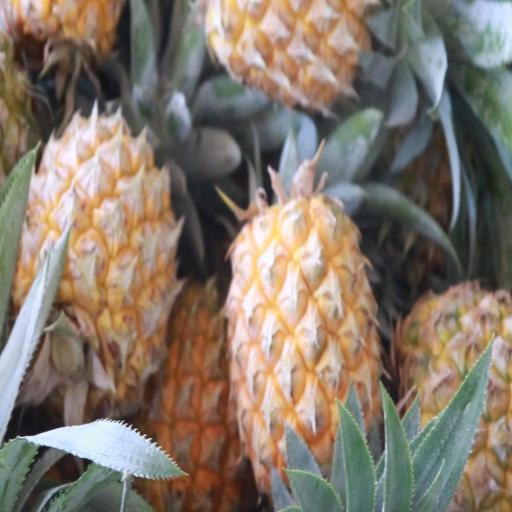Pineapple - v8 v1: (229, 200, 380, 509), (28, 110, 178, 398), (390, 278, 512, 509), (142, 284, 255, 512)
